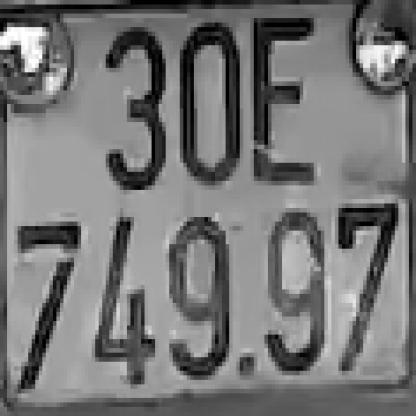0: (180, 22, 240, 186)
3: (102, 27, 169, 199)
4: (92, 212, 155, 380)
7: (14, 217, 81, 389), (335, 204, 395, 366)
9: (261, 208, 321, 371), (173, 212, 229, 371)
E: (250, 18, 314, 181)
